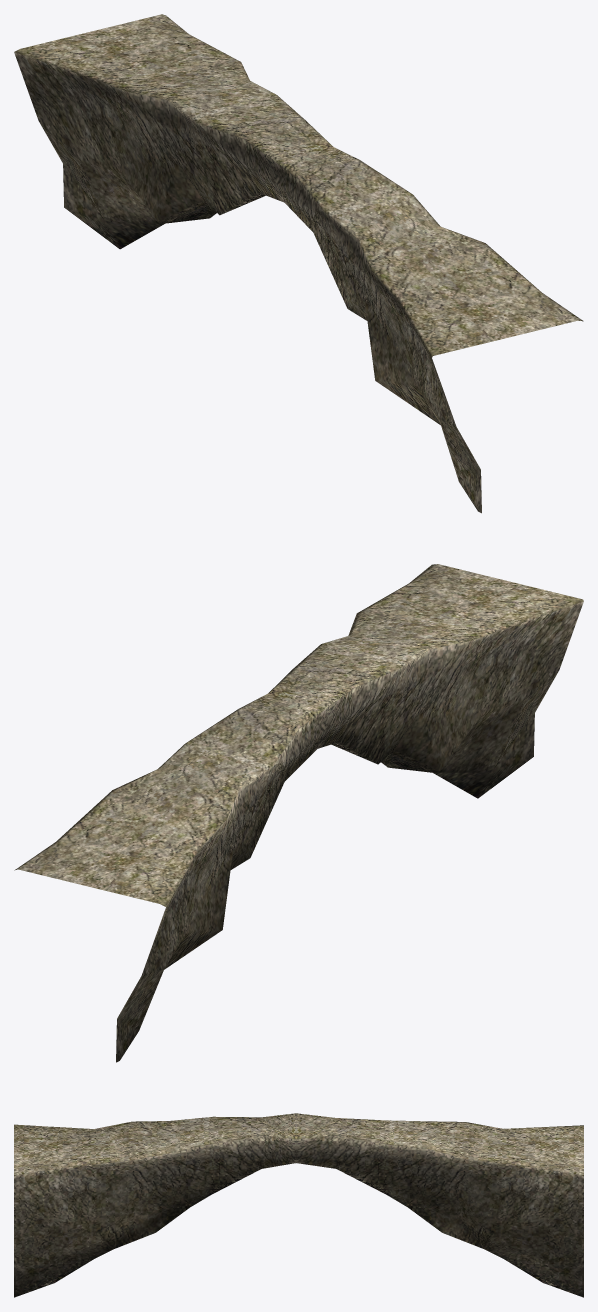
File: general_obj_stonebridge.glb
3 renders of one model, top to bottom at view 1: azimuth 30°, elevation 25°; view 2: azimuth 150°, elevation 25°; view 3: azimuth 270°, elevation 25°, orthographic. The views are drawn at different scales.
Visible parts, largest first — view 1: Sphere01; view 2: Sphere01; view 3: Sphere01.
Boxes of the visible parts, x1,y1,x2,y2 form: Sphere01: [14, 14, 583, 513]; Sphere01: [14, 564, 583, 1062]; Sphere01: [14, 1113, 583, 1297].
Size of the model in its own units: 12.59 by 19.21 by 59.96.
Materials: 1 (1 with a texture image).
